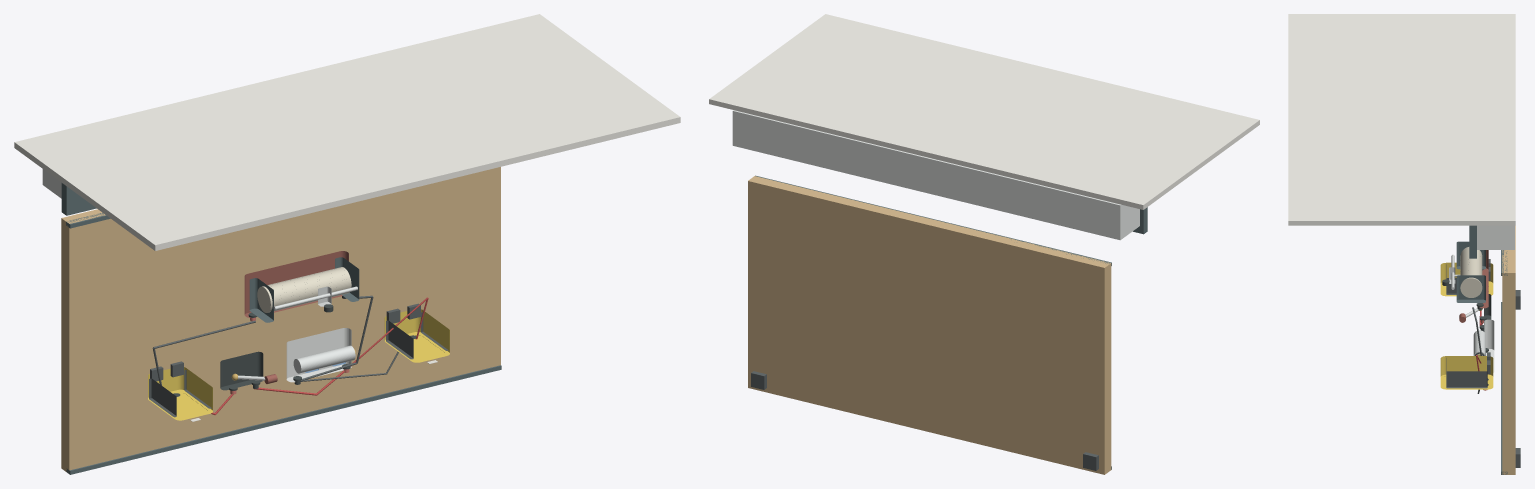
The model's file is rp06-iv-characteristics.glb.
3 renders of one model, left to right at view 1: azimuth 30°, elevation 25°; view 2: azimuth 150°, elevation 25°; view 3: azimuth 270°, elevation 25°, orthographic. The views are drawn at different scales.
Visible parts, largest first — view 1: Laboratory background wall, Laboratory bench laminate, Laboratory bench dark edge, Variable resistor ceramic former, Ammeter yellow case, Variable resistor bakelite base, Cell holder white base, Voltmeter yellow case, Switch black base; view 2: Laboratory bench laminate, Laboratory background wall, Laboratory background cabinet carcass; view 3: Laboratory background wall, Laboratory bench laminate, Voltmeter yellow case, Laboratory background cabinet carcass, Variable resistor ceramic former, Voltmeter right rubber side, Variable resistor right end cheek, Ammeter yellow case, Cell holder white base, Laboratory bench dark edge, Variable resistor left end cheek, Laboratory background worktop.
Part boxes in pixels (x1=…): Laboratory background wall: x1=14, y1=14, x2=680, y2=250; Laboratory bench laminate: x1=61, y1=167, x2=500, y2=471; Laboratory bench dark edge: x1=66, y1=365, x2=501, y2=474; Variable resistor ceramic former: x1=257, y1=267, x2=351, y2=312; Ammeter yellow case: x1=148, y1=367, x2=212, y2=420; Variable resistor bakelite base: x1=244, y1=251, x2=348, y2=317; Cell holder white base: x1=286, y1=328, x2=351, y2=382; Voltmeter yellow case: x1=384, y1=309, x2=449, y2=362; Switch black base: x1=220, y1=351, x2=263, y2=390; Laboratory bench laminate: x1=748, y1=176, x2=1111, y2=474; Laboratory background wall: x1=709, y1=14, x2=1259, y2=209; Laboratory background cabinet carcass: x1=732, y1=110, x2=1139, y2=240; Laboratory background wall: x1=1288, y1=14, x2=1515, y2=225; Laboratory bench laminate: x1=1502, y1=225, x2=1515, y2=474; Voltmeter yellow case: x1=1440, y1=356, x2=1493, y2=389; Laboratory background cabinet carcass: x1=1477, y1=225, x2=1514, y2=249; Variable resistor ceramic former: x1=1460, y1=247, x2=1482, y2=297; Voltmeter right rubber side: x1=1446, y1=371, x2=1487, y2=388; Variable resistor right end cheek: x1=1456, y1=275, x2=1485, y2=302; Ammeter yellow case: x1=1440, y1=262, x2=1493, y2=296; Cell holder white base: x1=1484, y1=319, x2=1494, y2=372; Laboratory bench dark edge: x1=1501, y1=302, x2=1507, y2=474; Variable resistor left end cheek: x1=1456, y1=241, x2=1485, y2=269; Laboratory background worktop: x1=1469, y1=225, x2=1476, y2=258.
Bounding box in the file's own units: 11.2 × 6.88 × 5.32.
